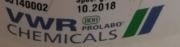VWR: (5, 2, 166, 45)
